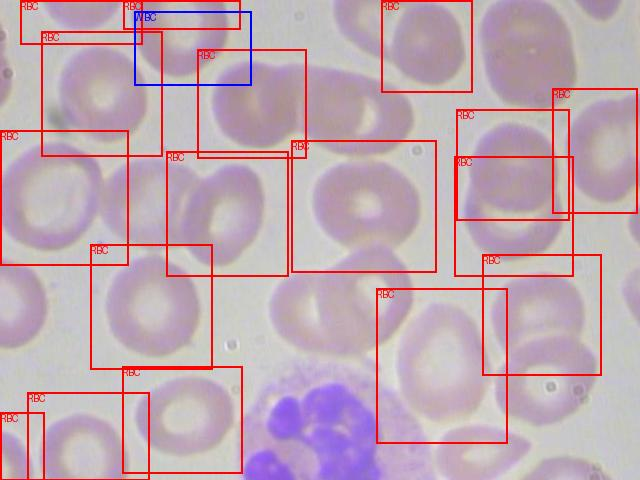RBC: (376, 288, 507, 443), (291, 140, 436, 272), (0, 130, 128, 265), (90, 244, 212, 369), (166, 151, 288, 276), (41, 31, 162, 156), (482, 254, 601, 375), (454, 156, 573, 276), (122, 366, 242, 473), (456, 109, 569, 220), (197, 49, 306, 158), (27, 392, 149, 480), (552, 88, 637, 213), (381, 0, 472, 92), (20, 0, 142, 44), (123, 0, 240, 29), (0, 412, 44, 480)
WBC: (134, 11, 251, 85)
